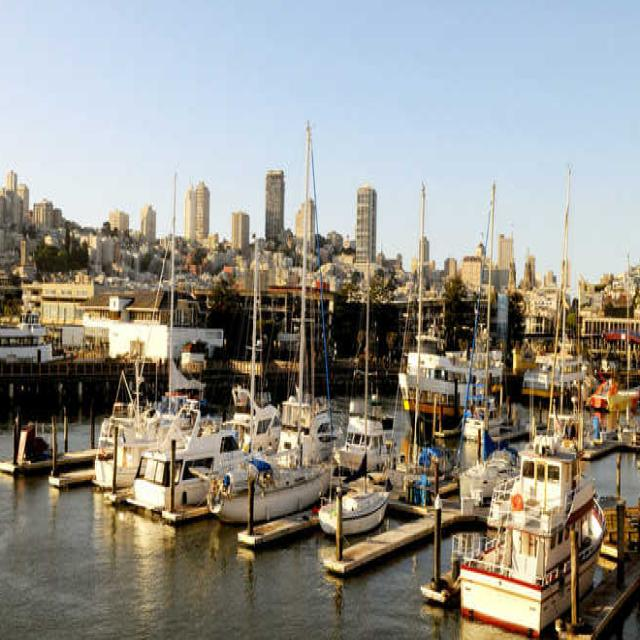cargoship: (448, 414, 604, 628)
